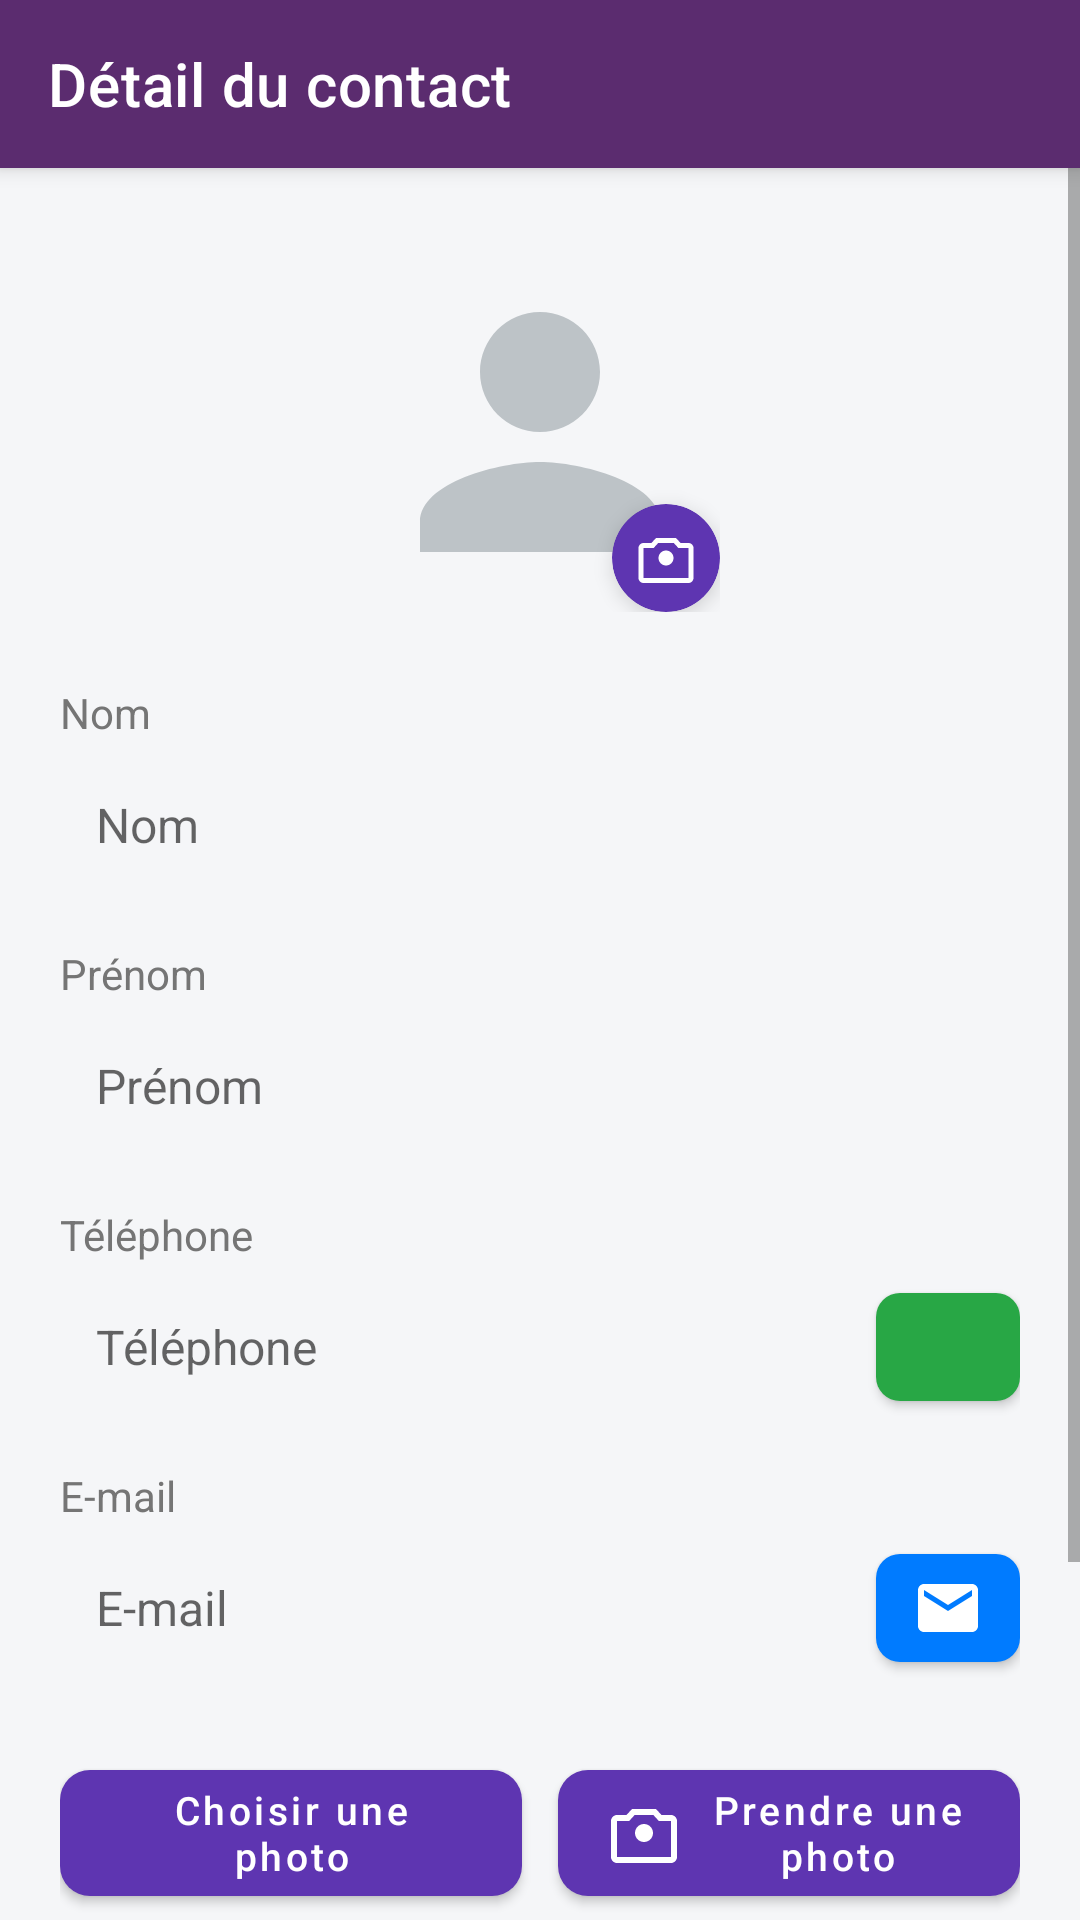

Where to tap for icons on this 1080×1920 app screen, as (x,y):
camera: (666,560)
